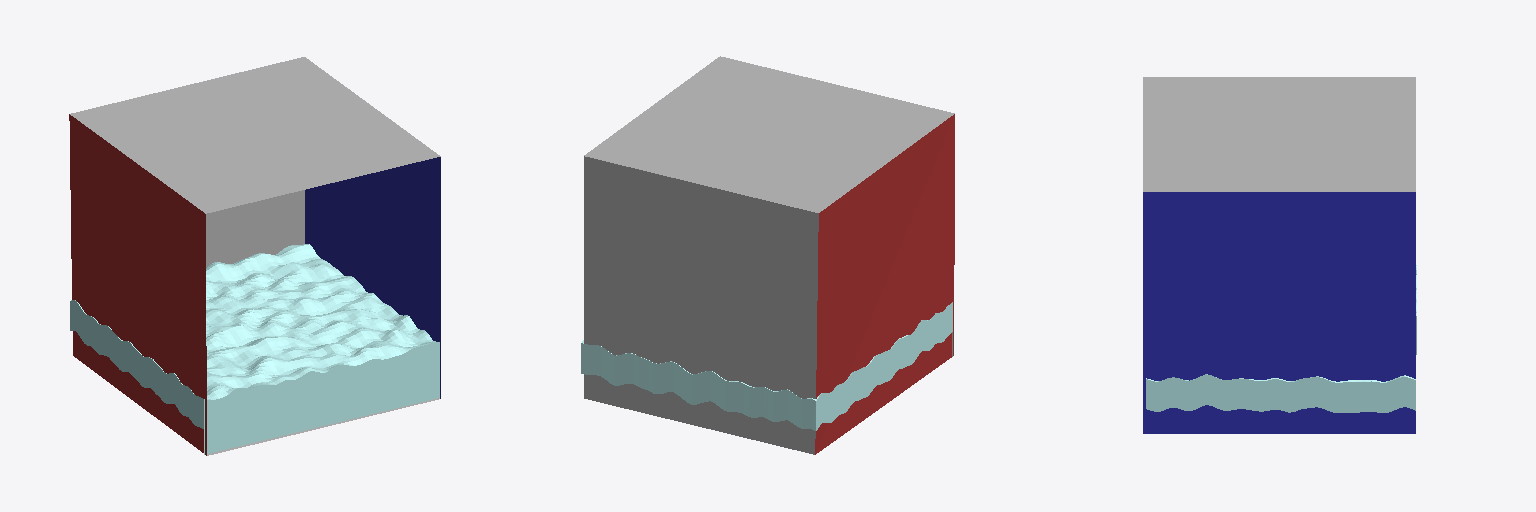
The model's file is cornellbox_water.obj.
3 renders of one model, left to right at view 1: azimuth 30°, elevation 25°; view 2: azimuth 150°, elevation 25°; view 3: azimuth 270°, elevation 25°, orthographic.
Parts seen in each view (by area): view 1: ceiling.001, leftWall.001, water.001, rightWall.001, water.000_water.002, backWall.001; view 2: backWall.001, ceiling.001, leftWall.001, water.001; view 3: rightWall.001, ceiling.001, water.001.
Boxes of the visible parts, <box> form: ceiling.001: <box>70,57,440,213</box>; leftWall.001: <box>69,114,206,455</box>; water.001: <box>70,244,435,428</box>; rightWall.001: <box>305,157,440,398</box>; water.000_water.002: <box>204,342,439,454</box>; backWall.001: <box>206,190,304,267</box>; backWall.001: <box>584,156,818,454</box>; ceiling.001: <box>584,56,954,212</box>; leftWall.001: <box>815,114,954,454</box>; water.001: <box>581,302,952,430</box>; rightWall.001: <box>1143,192,1415,433</box>; ceiling.001: <box>1143,77,1415,191</box>; water.001: <box>1146,265,1416,412</box>.
Size of the model in its own units: 2.04 by 1.99 by 2.04.